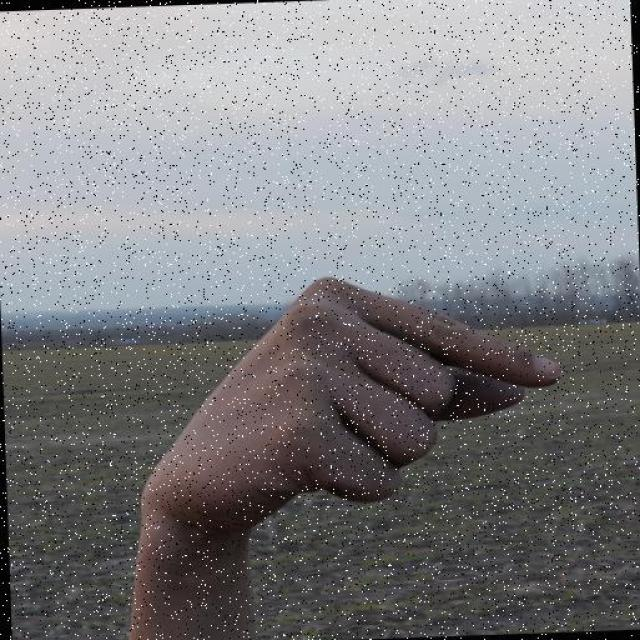G: (132, 260, 568, 534)
